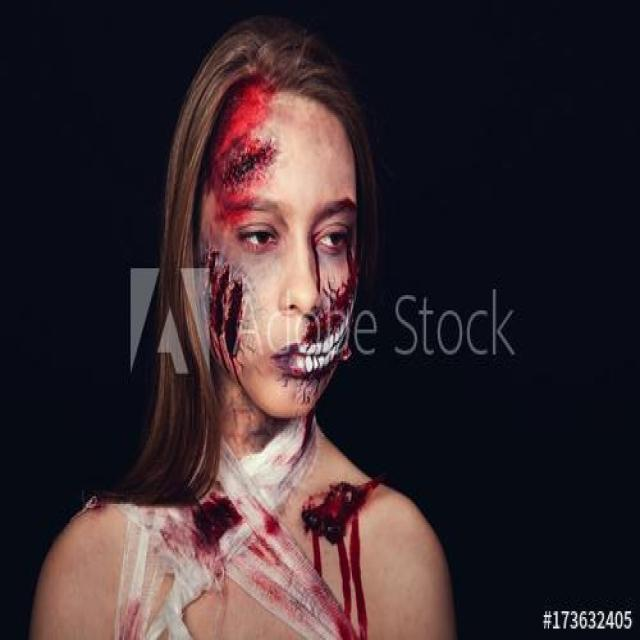flood: (207, 88, 379, 638)
